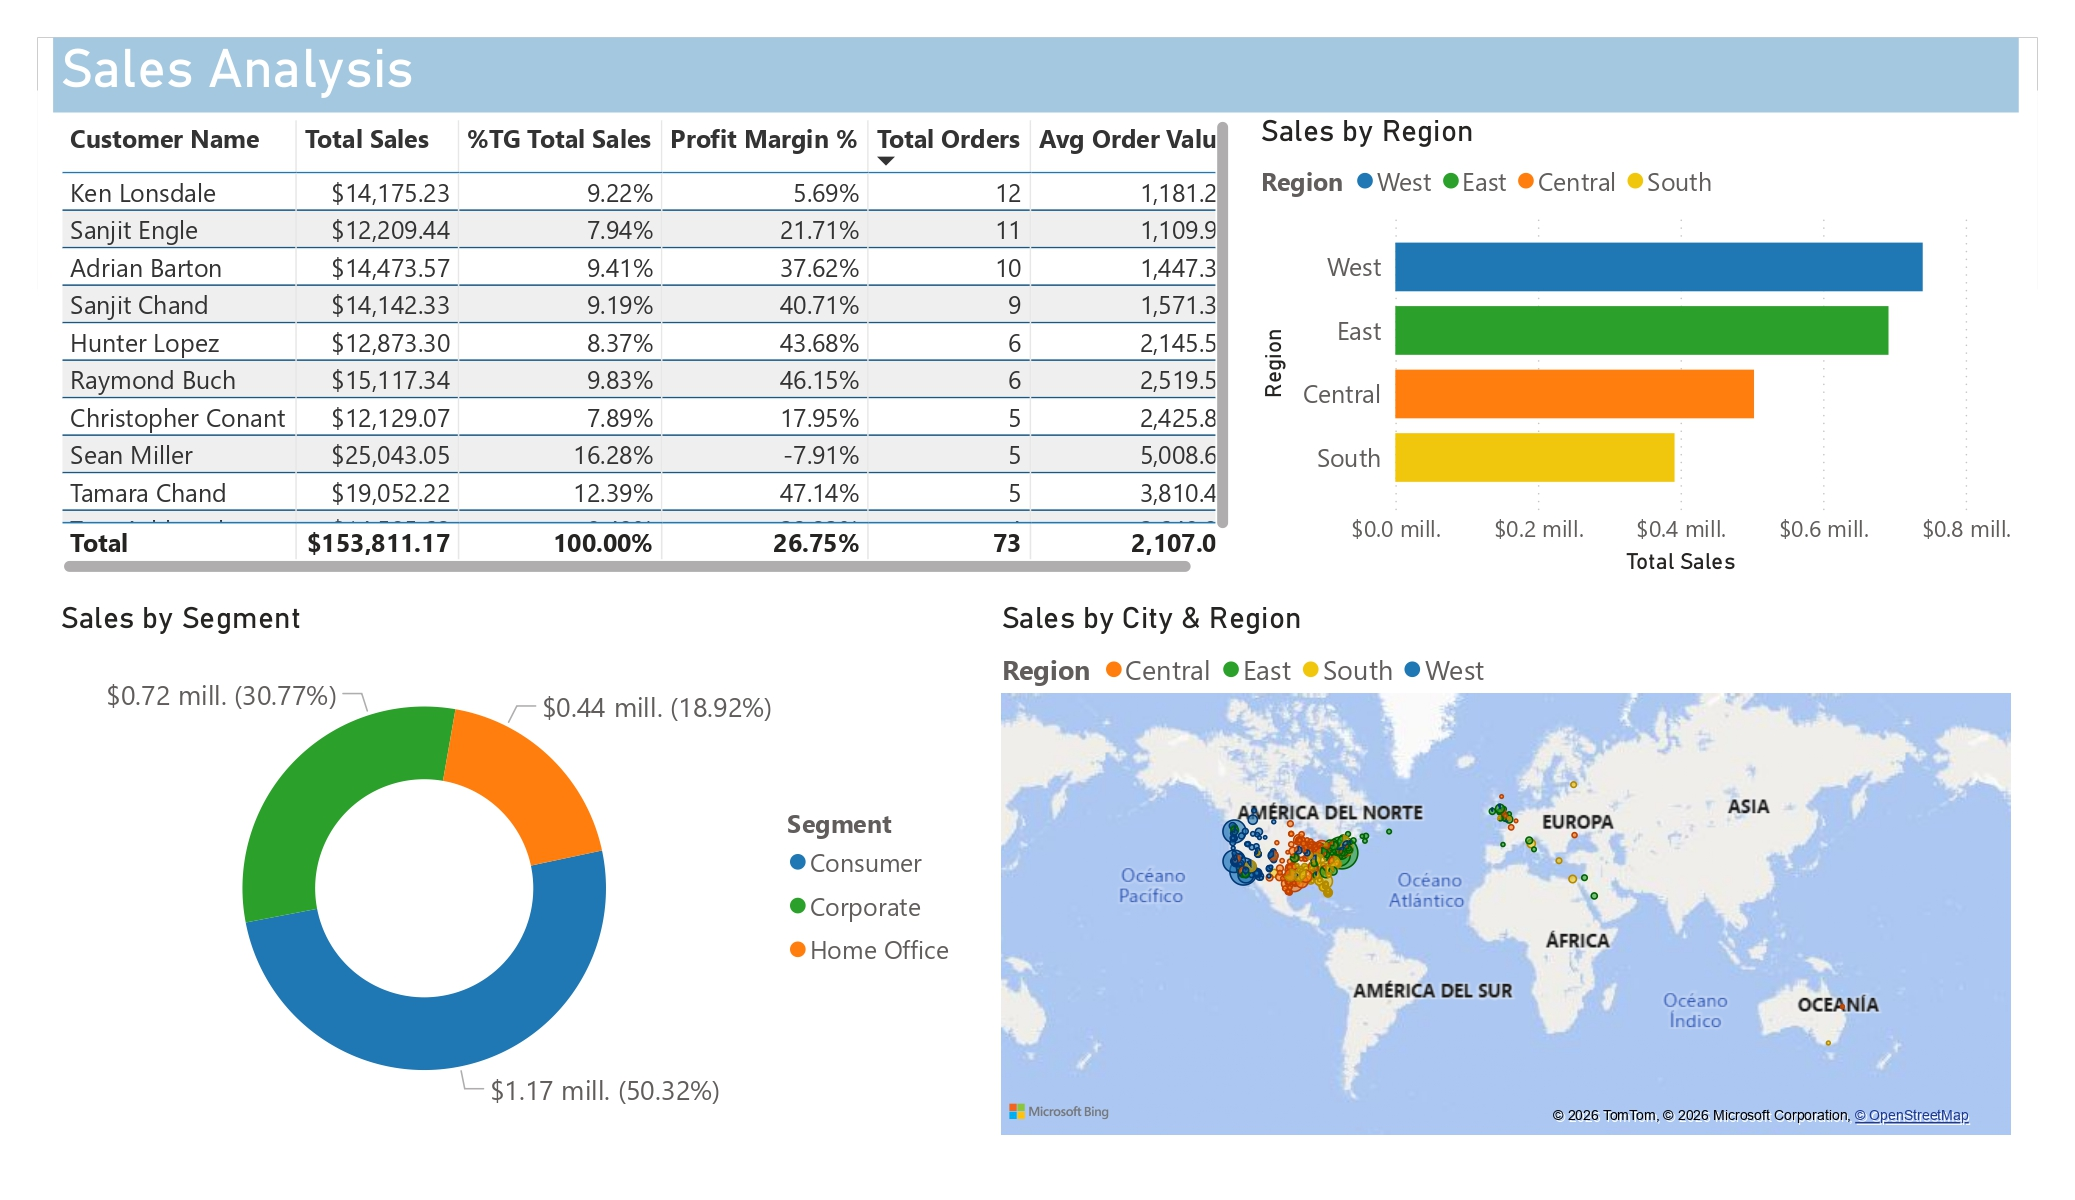

This screenshot's page, from the dashboard's own definition file:
{"tool":"powerbi","page":{"name":"SALES ANALYSIS","canvas":[1280,720],"ordinal":1},"visuals":[{"type":"barChart","title":"Sales by Region ","fields":{"Category":["samplesuperstore.Region"],"Series":["samplesuperstore.Region"],"Y":["samplesuperstore.Total Sales"]},"box":[790,48.3,478.3,300],"z":0},{"type":"donutChart","title":" Sales by Segment","fields":{"Category":["samplesuperstore.Segment"],"Y":["samplesuperstore.Total Sales"]},"box":[10,360,588.3,346.7],"z":1000},{"type":"map","title":"Sales by City & Region","fields":{"Category":["samplesuperstore.City"],"Series":["samplesuperstore.Region"],"Size":["samplesuperstore.Total Sales"]},"box":[611.7,360,656.7,346.7],"z":2000},{"type":"tableEx","fields":{"Values":["samplesuperstore.Customer Name","samplesuperstore.Total Sales","Divide(samplesuperstore.Total Sales, ScopedEval(samplesuperstore.Total Sales, []))","samplesuperstore.Profit Margin %","samplesuperstore.Total Orders","samplesuperstore.Avg Order Value"]},"box":[10,48.3,768.3,300],"z":3000},{"type":"textbox","title":"Sales Analysis","box":[10,0,1258.3,48.3],"z":3001}]}

Visuals, with their boxes on the page's 1280x720 design canvas (x1, y1, x2, y2). These are canvas units, not pixel positions in the 2075x1200 screenshot, which may show the page scaled, cropped or inside an application window:
"Sales by Region " barChart: bbox=(790, 48, 1268, 348)
" Sales by Segment" donutChart: bbox=(10, 360, 598, 707)
"Sales by City & Region" map: bbox=(612, 360, 1268, 707)
tableEx - samplesuperstore.Customer Name x samplesuperstore.Total Sales: bbox=(10, 48, 778, 348)
"Sales Analysis" textbox: bbox=(10, 0, 1268, 48)
